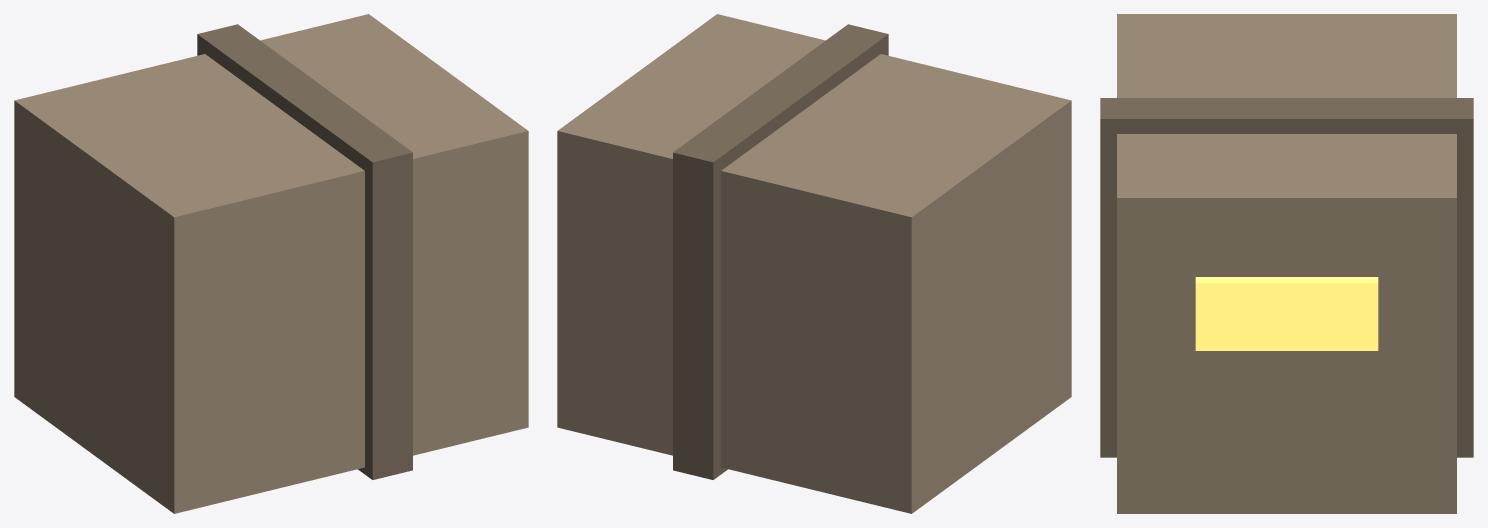
File: refinery-crate-lod2.glb
The picture shows the model from 3 angles, left to right: view 1: azimuth 30°, elevation 25°; view 2: azimuth 150°, elevation 25°; view 3: azimuth 270°, elevation 25°; orthographic projection. The views are drawn at different scales.
Visible parts, largest first — view 1: refinery-crate-shell, refinery-crate-band; view 2: refinery-crate-shell, refinery-crate-band; view 3: refinery-crate-shell, refinery-crate-band, refinery-crate-marker.
Part boxes in pixels (<box>): refinery-crate-shell: <box>14,14,528,513</box>; refinery-crate-band: <box>197,24,412,479</box>; refinery-crate-shell: <box>557,14,1071,513</box>; refinery-crate-band: <box>673,24,888,479</box>; refinery-crate-shell: <box>1117,14,1456,513</box>; refinery-crate-band: <box>1100,98,1473,457</box>; refinery-crate-marker: <box>1195,277,1378,350</box>.
Bounding box in the file's own units: 1.08 × 0.9 × 0.9.
